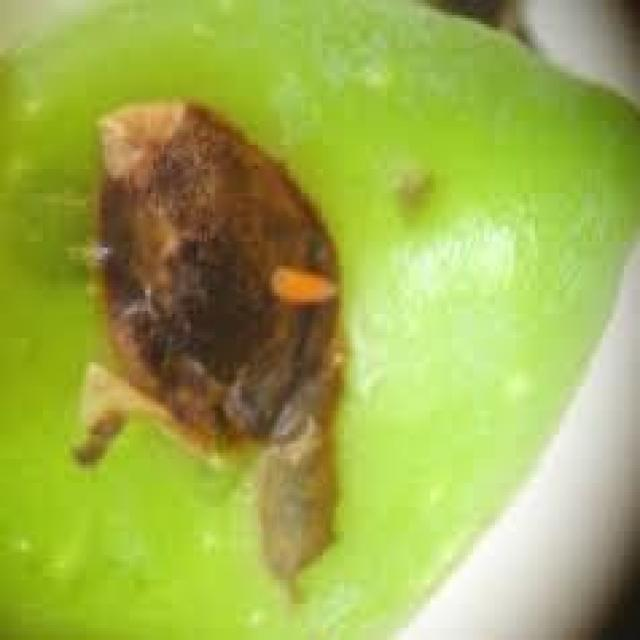Olive Fruit Fly: (0, 0, 637, 637)
